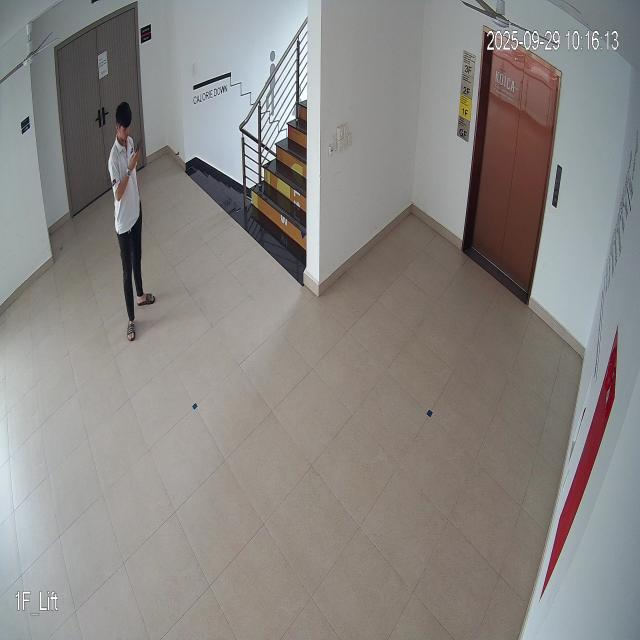face: (112, 96, 135, 150)
